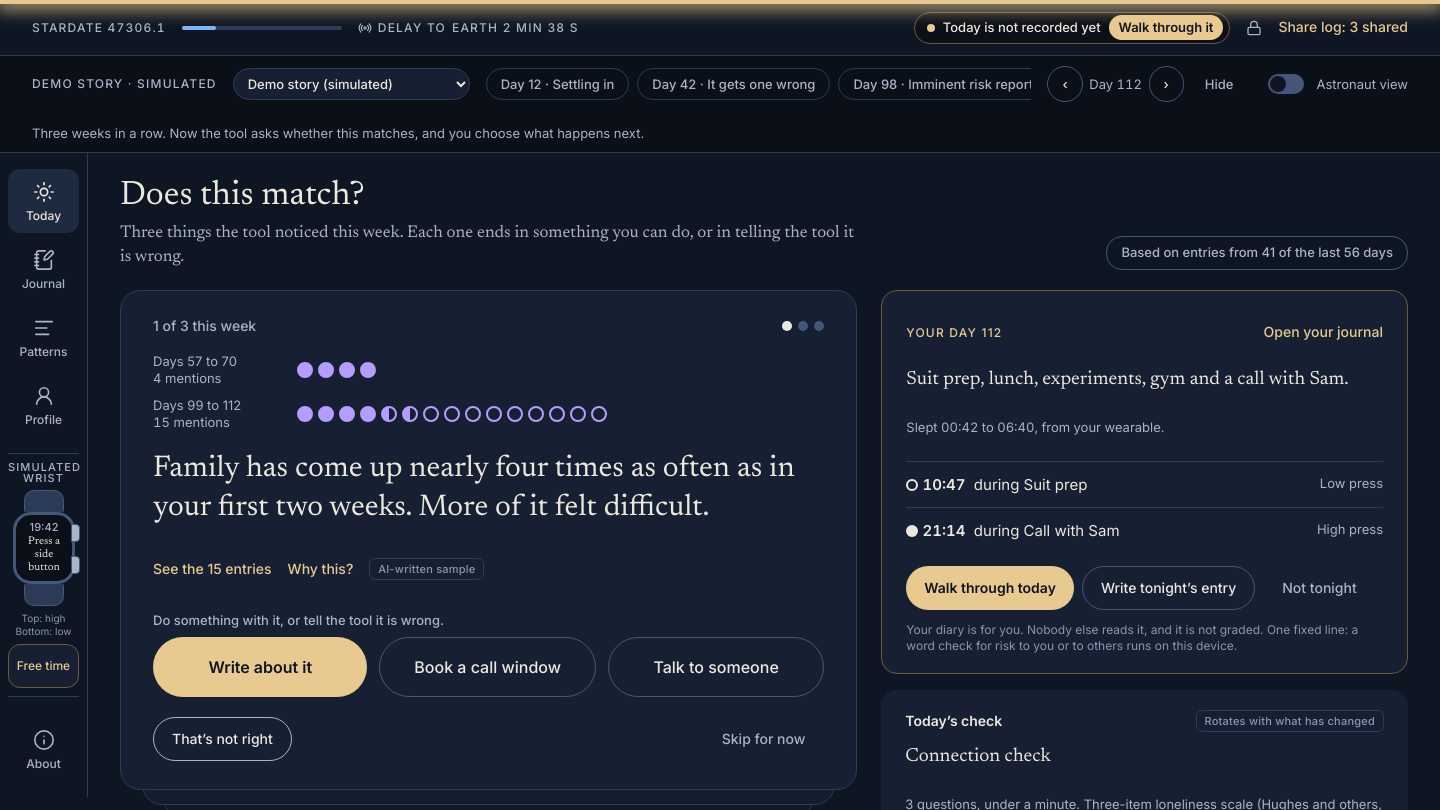
Scenario: the switch swaps the whole app for the flight surgeon view, and back
Check: the heading "Does this match?" is shown, box [120,179,364,213]
Step 1. Click the switch named "Flight surgeon view" → (1286, 84), box [1268,74,1304,94]
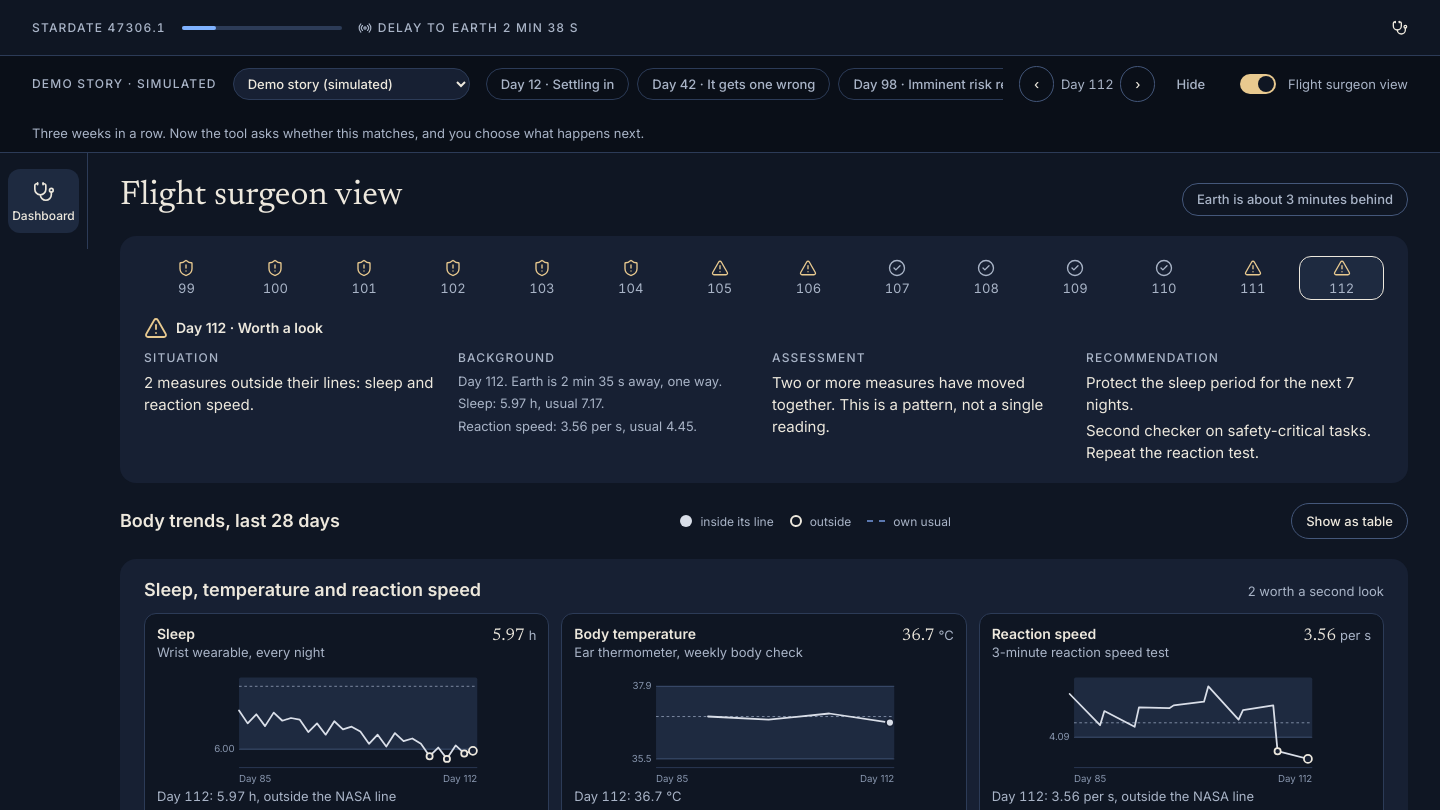
Check: the heading "Flight surgeon view" is shown, box [120,177,403,216]
Check: the navigation bar "Main" is gone
Check: the link "Share log:" is gone
Step 2. Click the switch named "Flight surgeon view" → (1258, 84), box [1240,74,1276,94]
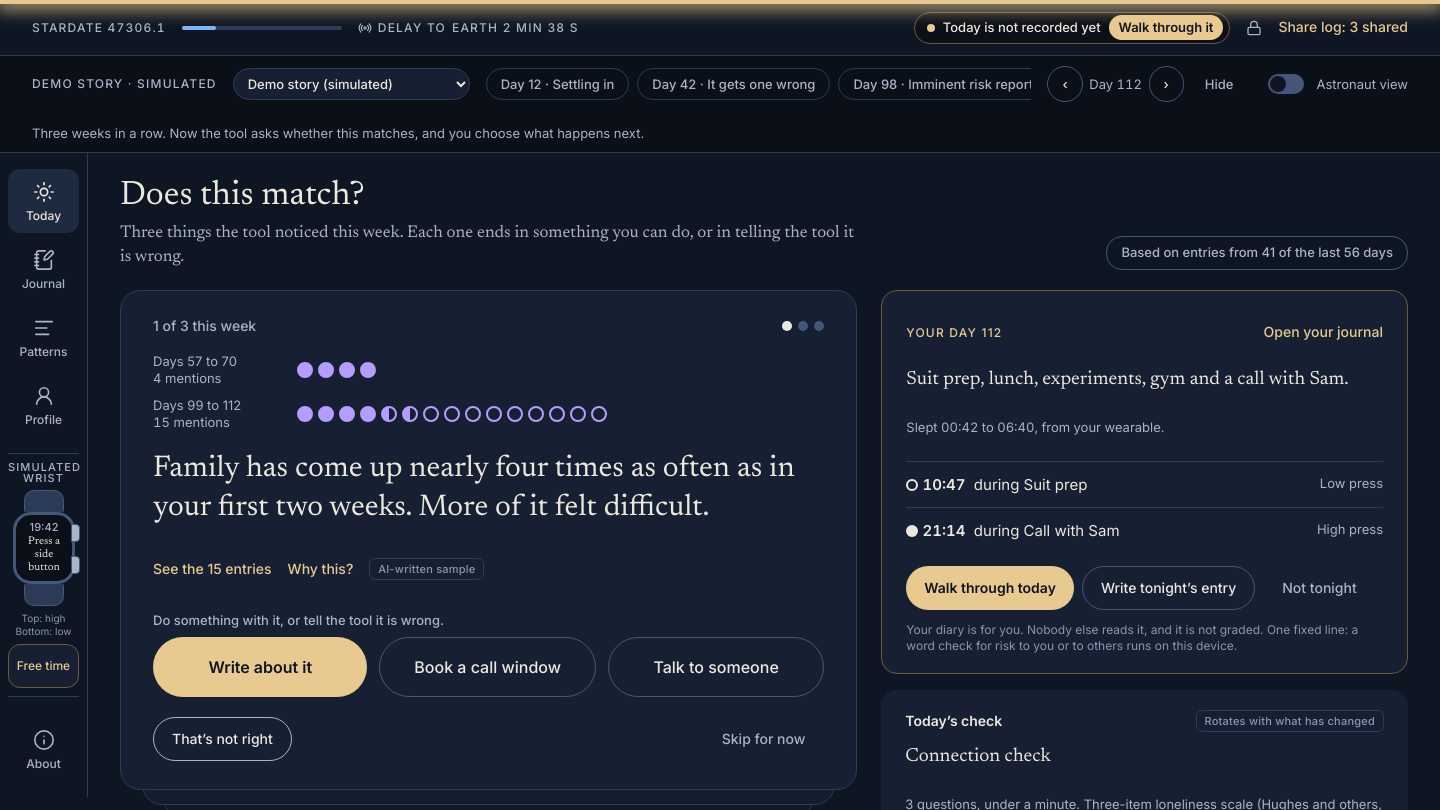
Check: the heading "Does this match?" is shown, box [120,179,364,213]
Check: the navigation bar named "Main" is shown, box [0,153,88,797]
